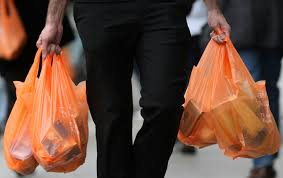plastic bag: (174, 27, 281, 159), (1, 41, 90, 175)
